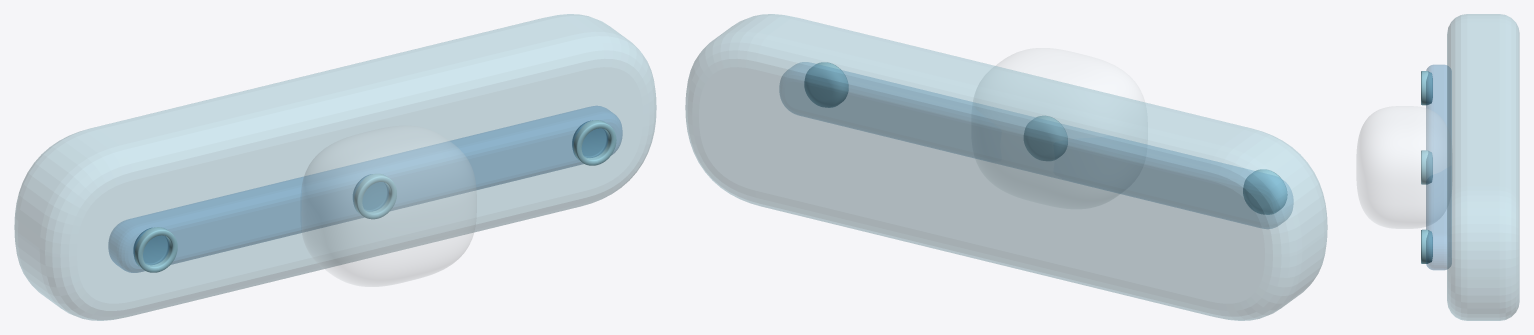
The picture shows the model from 3 angles, left to right: view 1: azimuth 30°, elevation 25°; view 2: azimuth 150°, elevation 25°; view 3: azimuth 270°, elevation 25°; orthographic projection. The views are drawn at different scales.
Parts seen in each view (by area): view 1: cradle, channel, thumb-0, detent-0, detent-2, detent-1; view 2: cradle, channel, thumb-0, detent-2, detent-0, detent-1; view 3: cradle, thumb-0, channel, detent-2, detent-0, detent-1.
Boxes of the visible parts, box(x1,y1,x2,y2) form: cradle: box(14, 14, 656, 320); channel: box(108, 106, 622, 272); thumb-0: box(301, 126, 476, 286); detent-0: box(133, 227, 177, 272); detent-2: box(572, 120, 616, 165); detent-1: box(353, 173, 396, 219); cradle: box(685, 14, 1327, 320); channel: box(779, 62, 1293, 228); thumb-0: box(996, 48, 1144, 102); detent-2: box(804, 62, 848, 107); detent-0: box(1243, 169, 1287, 214); detent-1: box(1024, 116, 1067, 160); cradle: box(1447, 14, 1519, 320); thumb-0: box(1356, 106, 1446, 228); channel: box(1426, 65, 1451, 269); detent-2: box(1421, 229, 1432, 263); detent-0: box(1421, 71, 1432, 105); detent-1: box(1421, 150, 1432, 184).
Size of the model in its own units: 2.6 by 0.69 by 0.81.
